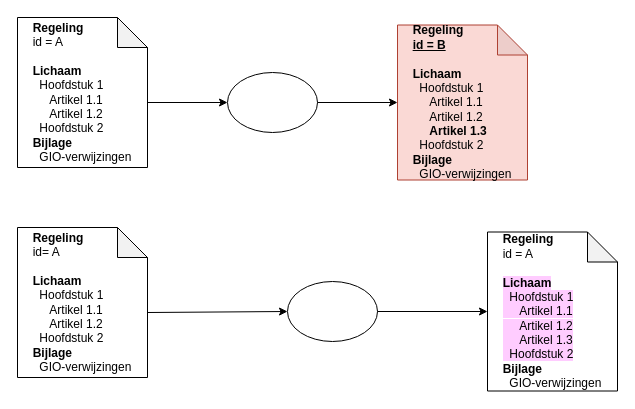
Image size: 635x409. Some labels were removed from this diagram. The shapes that lost their labels are listed below. From the top down, each one's centre as x and y in pixels, then its label:
At pixel 272 102: "Intrekken en Vervangen".
At pixel 332 311: "IntegraleLichaams Vervanging".
